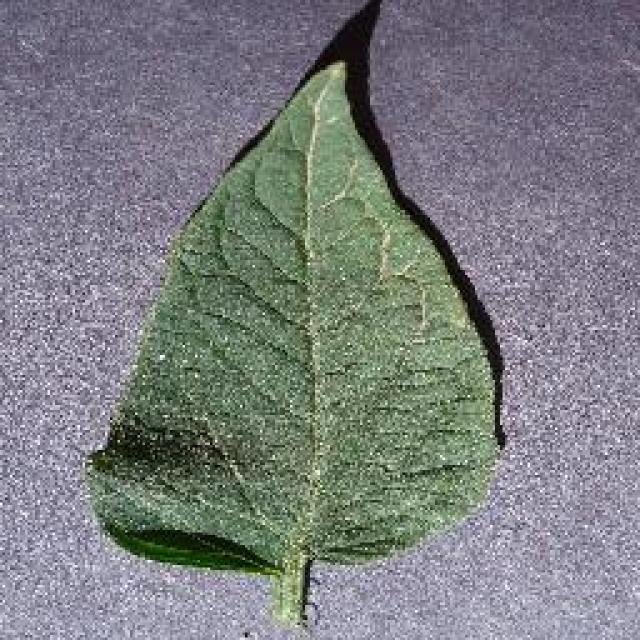Tomato___healthy: (77, 60, 506, 623)
